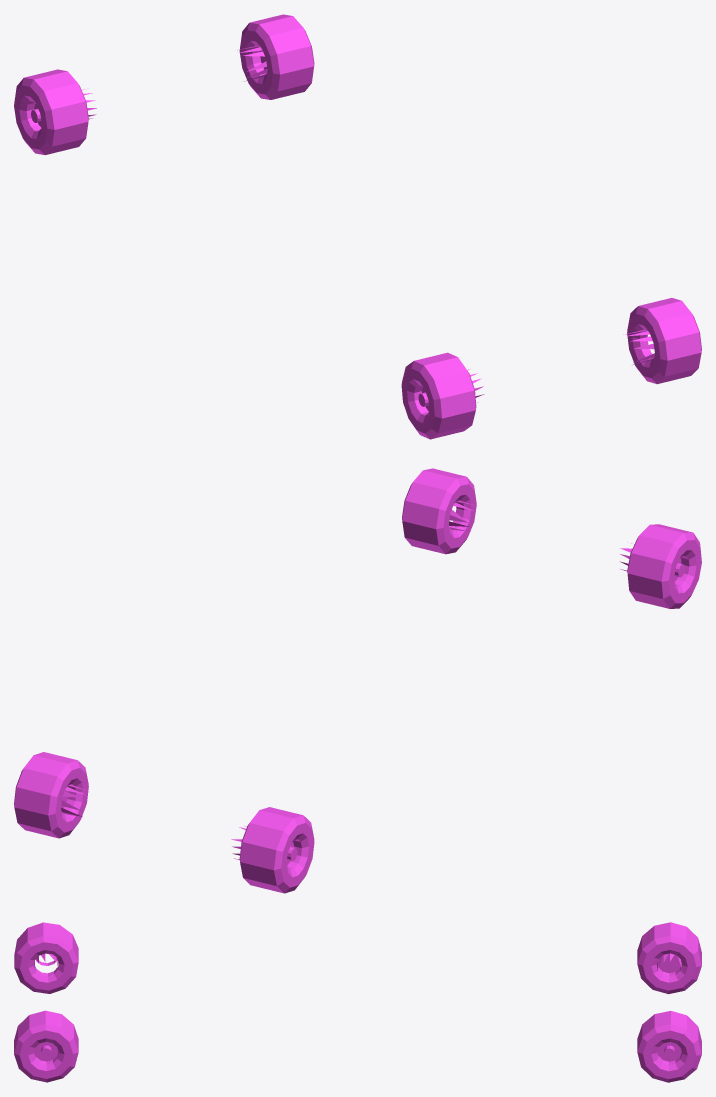
Rendered from pink.glb.
The picture shows the model from 3 angles, top to bottom: view 1: azimuth 30°, elevation 25°; view 2: azimuth 150°, elevation 25°; view 3: azimuth 270°, elevation 25°; orthographic projection. The views are drawn at different scales.
Visible parts, largest first — view 1: WheelFR, WheelRR, WheelFL, WheelRL; view 2: WheelFR, WheelRR, WheelFL, WheelRL; view 3: WheelRL, WheelFL, WheelFR, WheelRR.
Boxes of the visible parts, bbox=[...] form: WheelFR: bbox=[14, 69, 96, 154]; WheelRR: bbox=[401, 352, 484, 439]; WheelFL: bbox=[237, 14, 314, 99]; WheelRL: bbox=[623, 298, 701, 384]; WheelFR: bbox=[231, 807, 314, 893]; WheelRR: bbox=[620, 524, 701, 608]; WheelFL: bbox=[14, 752, 88, 838]; WheelRL: bbox=[402, 468, 476, 554]; WheelRL: bbox=[14, 1010, 78, 1082]; WheelFL: bbox=[637, 1011, 701, 1082]; WheelFR: bbox=[637, 922, 701, 994]; WheelRR: bbox=[14, 922, 78, 993].
Bounding box in the file's own units: 3.29 × 0.8599 × 9.13.
1 material, 1 textured.
